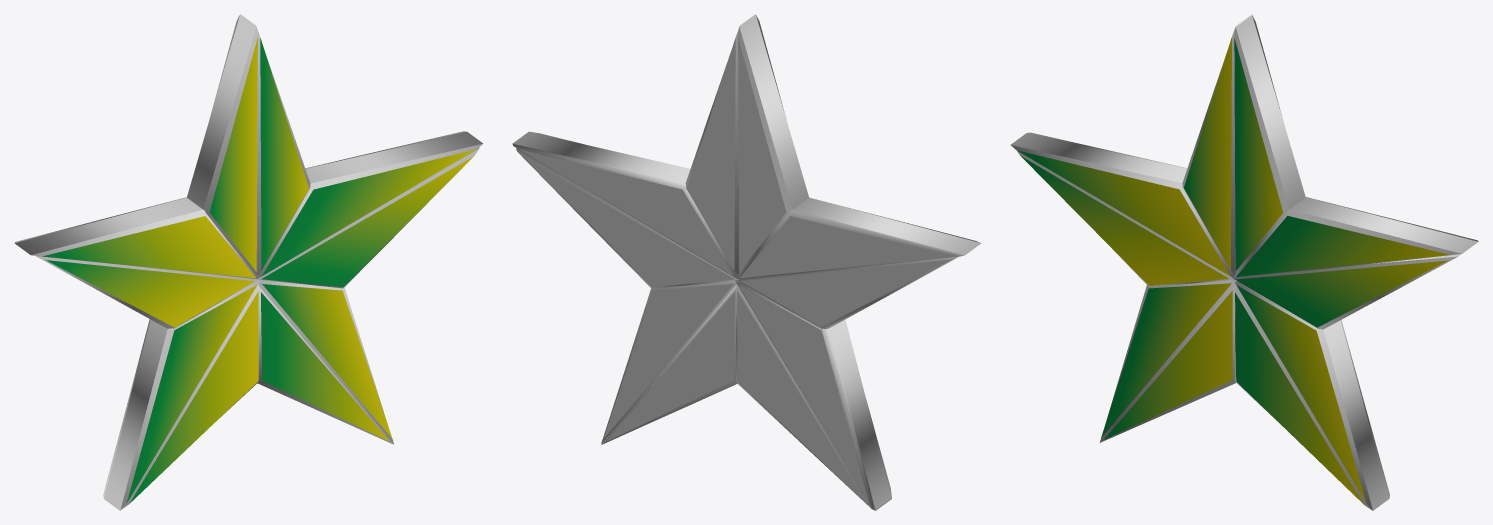
The model's file is loco.fbx.
3 renders of one model, left to right at view 1: azimuth 30°, elevation 25°; view 2: azimuth 150°, elevation 25°; view 3: azimuth 330°, elevation 25°, orthographic.
Parts seen in each view (by area): view 1: Tapa 1.8, Tapa 1.10, Tapa 1.3, Tapa 1.4, Tapa 1.7, Tapa 1.5, Tapa 1.9, Tapa 1.6, Tapa 1.2, Tapa 1, NURBS Extrusión, NURBS Extrusión .7 (+12 smaller); view 2: Tapa 2.8, Tapa 2.10, Tapa 2.3, Tapa 2.4, Tapa 2.7, Tapa 2.5, Tapa 2.9, Tapa 2.2, Tapa 2.6, Tapa 2, NURBS Extrusión, NURBS Extrusión .7 (+12 smaller); view 3: Tapa 1.10, Tapa 1.8, Tapa 1.3, Tapa 1.4, Tapa 1.5, Tapa 1.7, Tapa 1.9, Tapa 1.6, Tapa 1.2, Tapa 1, NURBS Extrusión .1, NURBS Extrusión .4 (+12 smaller).
Part boxes in pixels (<box>): Tapa 1.8: <box>127,284,257,502</box>; Tapa 1.10: <box>42,216,255,278</box>; Tapa 1.3: <box>262,149,476,275</box>; Tapa 1.4: <box>261,156,473,287</box>; Tapa 1.7: <box>129,291,258,503</box>; Tapa 1.5: <box>262,284,392,438</box>; Tapa 1.9: <box>46,260,254,327</box>; Tapa 1.6: <box>261,292,389,441</box>; Tapa 1.2: <box>260,38,308,270</box>; Tapa 1: <box>209,37,257,271</box>; NURBS Extrusión: <box>187,14,256,209</box>; NURBS Extrusión .7: <box>104,319,167,510</box>; Tapa 2.8: <box>738,284,868,502</box>; Tapa 2.10: <box>740,216,953,278</box>; Tapa 2.3: <box>519,149,733,275</box>; Tapa 2.4: <box>522,156,734,287</box>; Tapa 2.7: <box>737,291,866,503</box>; Tapa 2.5: <box>603,284,733,438</box>; Tapa 2.9: <box>741,260,949,327</box>; Tapa 2.2: <box>686,38,735,269</box>; Tapa 2.6: <box>606,292,734,441</box>; Tapa 2: <box>738,37,786,271</box>; NURBS Extrusión: <box>739,14,808,209</box>; NURBS Extrusión .7: <box>828,319,891,510</box>; Tapa 1.10: <box>1017,150,1230,276</box>; Tapa 1.8: <box>1101,283,1231,437</box>; Tapa 1.3: <box>1236,215,1450,277</box>; Tapa 1.4: <box>1235,260,1447,327</box>; Tapa 1.5: <box>1236,285,1366,502</box>; Tapa 1.7: <box>1104,290,1232,439</box>; Tapa 1.9: <box>1021,156,1228,285</box>; Tapa 1.6: <box>1235,292,1363,504</box>; Tapa 1.2: <box>1234,38,1283,270</box>; Tapa 1: <box>1184,37,1231,269</box>; NURBS Extrusión .1: <box>1236,15,1305,208</box>; NURBS Extrusión .4: <box>1323,320,1389,510</box>.
Bounding box in the file's own units: 317 × 303 × 26.02.
